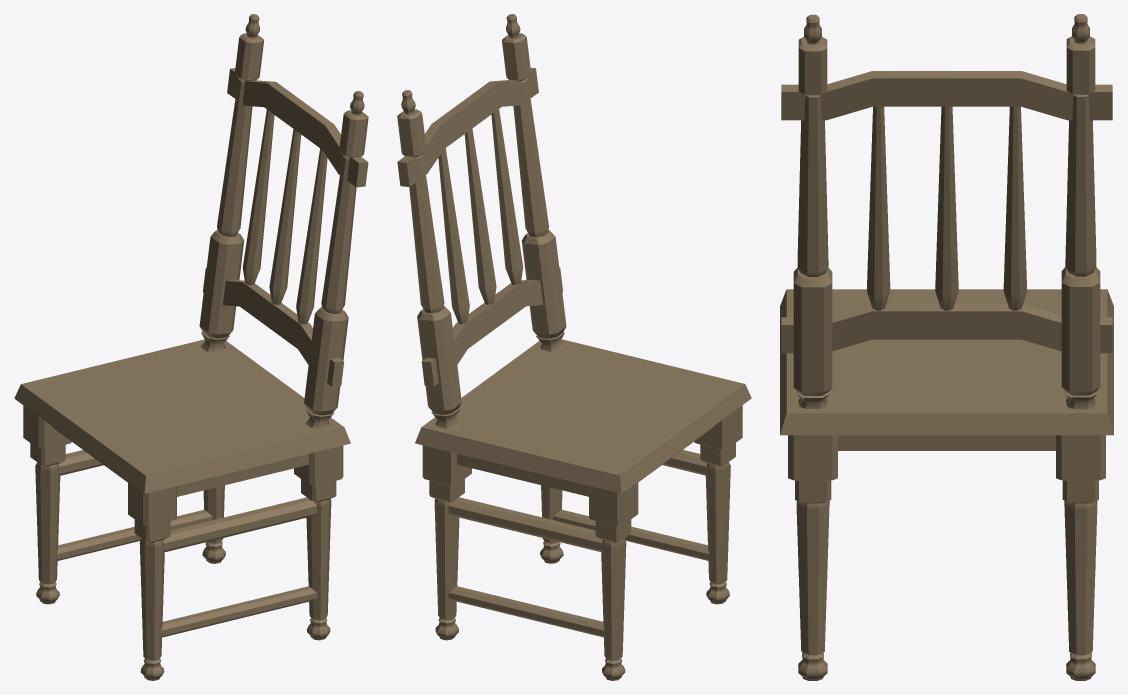
Rendered from msh_chair.fbx.
3 renders of one model, left to right at view 1: azimuth 30°, elevation 25°; view 2: azimuth 150°, elevation 25°; view 3: azimuth 270°, elevation 25°, orthographic. The views are drawn at different scales.
Visible parts, largest first — view 1: GRP_up02_msh_leftUp4; view 2: GRP_up02_msh_leftUp4; view 3: GRP_up02_msh_leftUp4.
Boxes of the visible parts, left/top/right/bottom form: GRP_up02_msh_leftUp4: left=14, top=14, right=368, bottom=680; GRP_up02_msh_leftUp4: left=397, top=14, right=751, bottom=680; GRP_up02_msh_leftUp4: left=780, top=14, right=1113, bottom=680.
Bounding box in the file's own units: 91.35 × 200 × 88.13.
